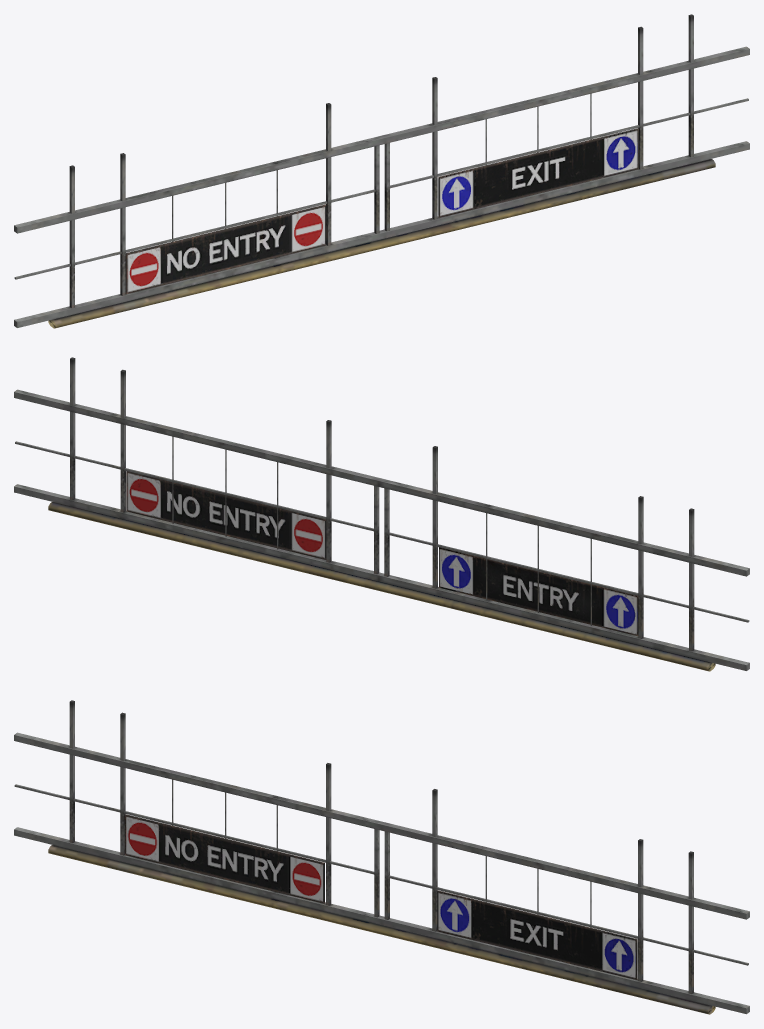
Rendered from sm21_038_parkingexit01a.fbx.
3 views of the same model, one above another, from view 1: azimuth 30°, elevation 25°; view 2: azimuth 150°, elevation 25°; view 3: azimuth 330°, elevation 25° (orthographic).
Visible parts, largest first — view 1: LOD_1_Group_0_Sub_1__sm21_038_ParkingExit01A_A_Mat; view 2: LOD_1_Group_0_Sub_1__sm21_038_ParkingExit01A_A_Mat; view 3: LOD_1_Group_0_Sub_1__sm21_038_ParkingExit01A_A_Mat.
Part boxes in pixels (left/top/right/bottom): LOD_1_Group_0_Sub_1__sm21_038_ParkingExit01A_A_Mat: left=14, top=14, right=749, bottom=328; LOD_1_Group_0_Sub_1__sm21_038_ParkingExit01A_A_Mat: left=14, top=357, right=749, bottom=671; LOD_1_Group_0_Sub_1__sm21_038_ParkingExit01A_A_Mat: left=14, top=700, right=749, bottom=1014.
Bounding box in the file's own units: 691 × 141 × 12.17.
